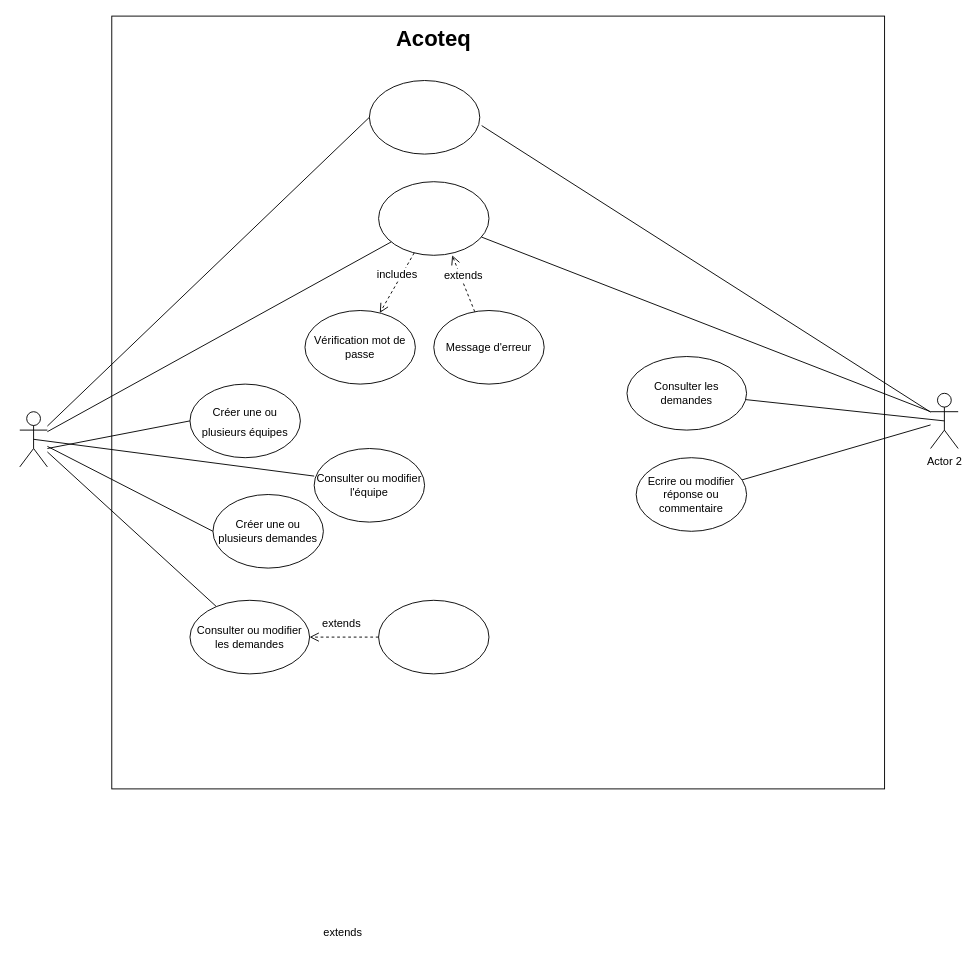
Image size: 978x954. Some labels were removed from this diagram. The box of each missing label's shape, as (x1, y1, x2, y2) in pixels:
Actor 1: (19, 411, 47, 467)
Connexion: (378, 181, 489, 255)
Ecrire ou modifier commentaire: (378, 599, 489, 674)
Inscription: (368, 80, 480, 154)
